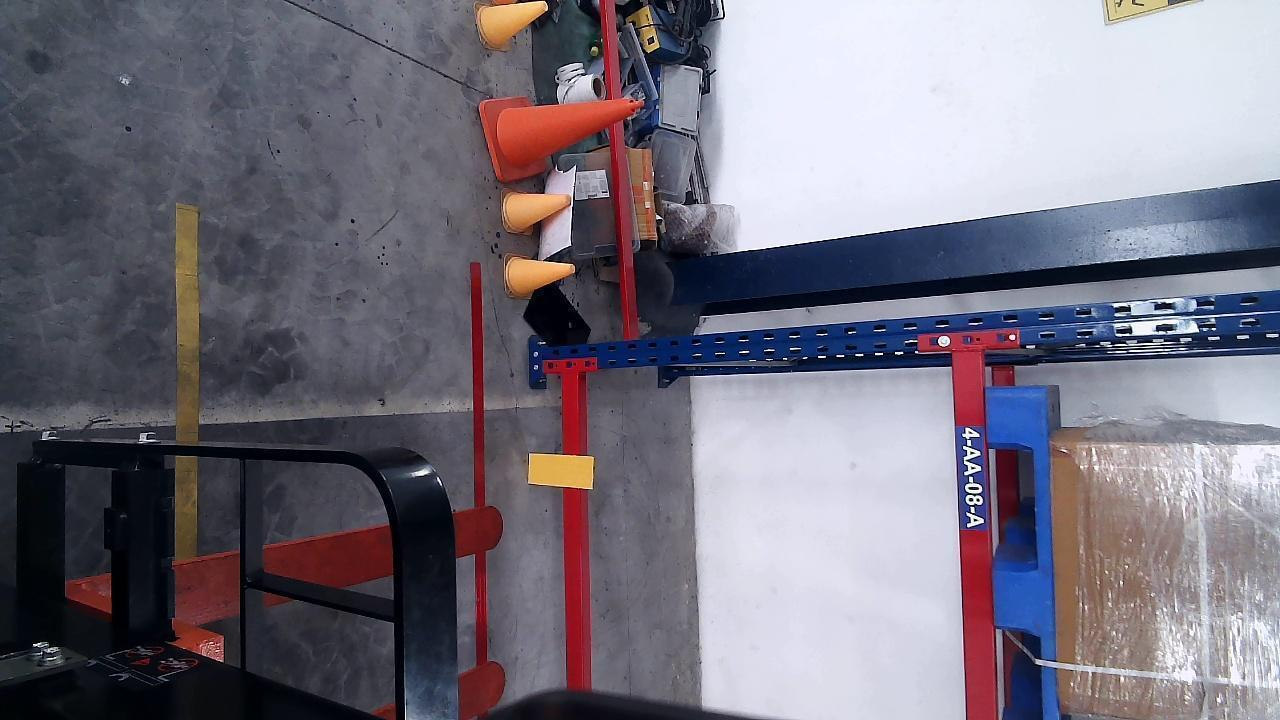red_line: (469, 260, 489, 664)
yellow_line: (175, 204, 200, 558)
